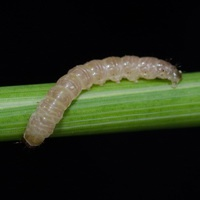insect: (24, 56, 180, 145)
